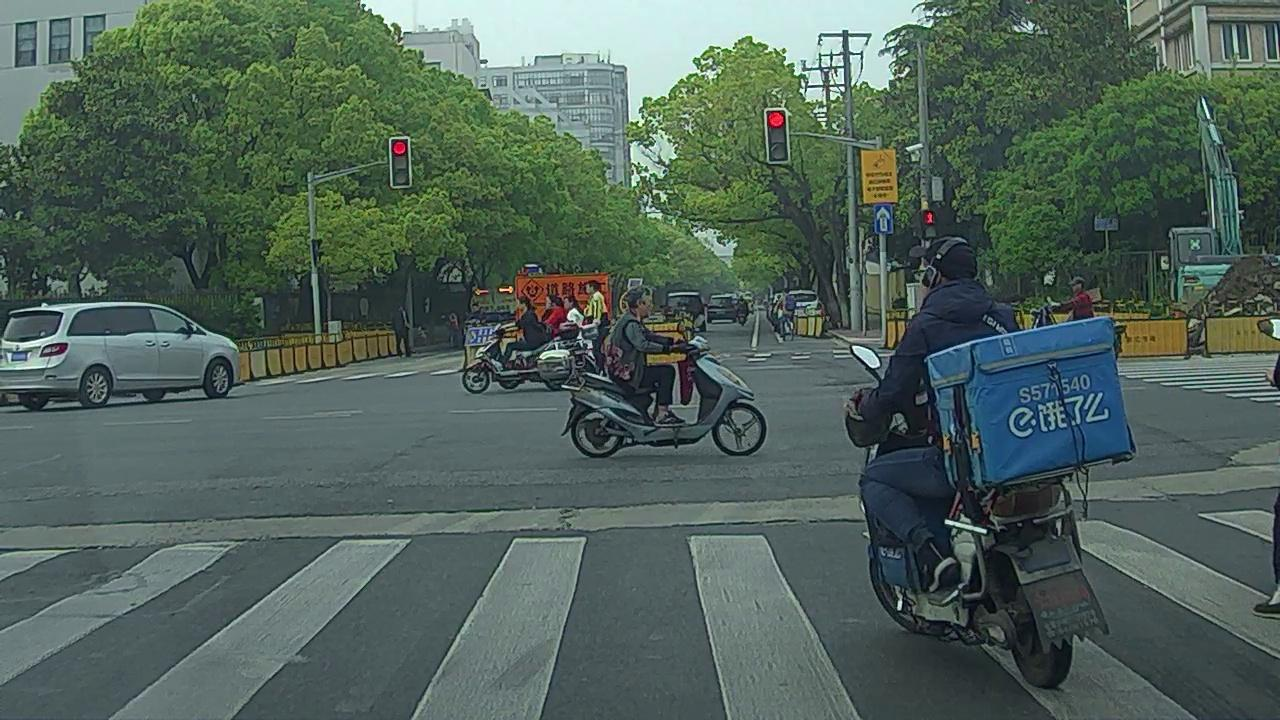traffic_light: (766, 110, 789, 163), (391, 136, 411, 187)
